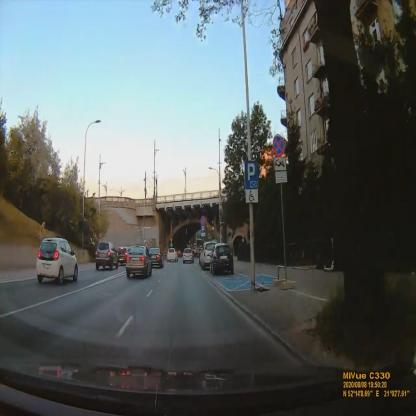cars: (36, 239, 78, 282), (126, 245, 152, 277), (210, 243, 234, 275), (95, 241, 118, 271), (201, 242, 215, 269), (148, 247, 164, 269), (116, 246, 128, 265), (183, 248, 194, 263), (168, 249, 178, 264)
